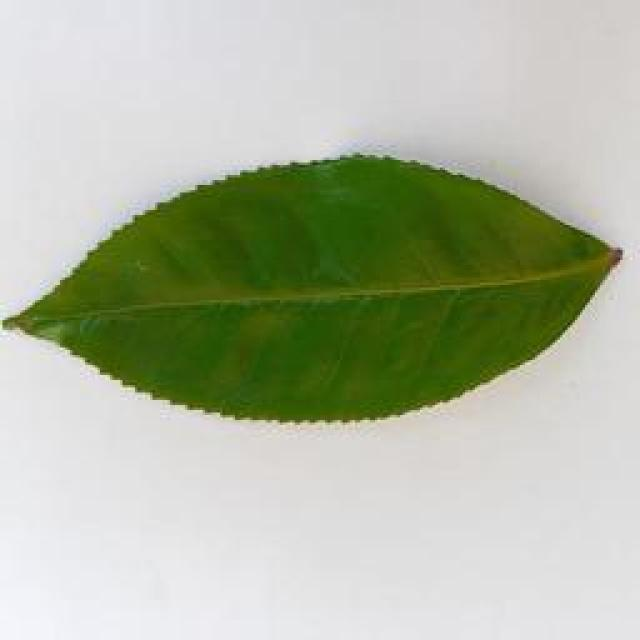Healthy: (1, 156, 618, 428)
